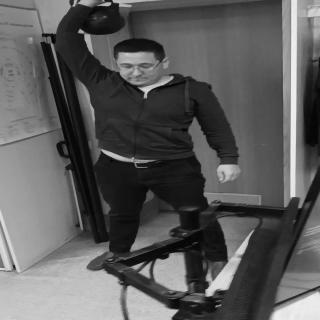kettlebell: (68, 1, 130, 38)
